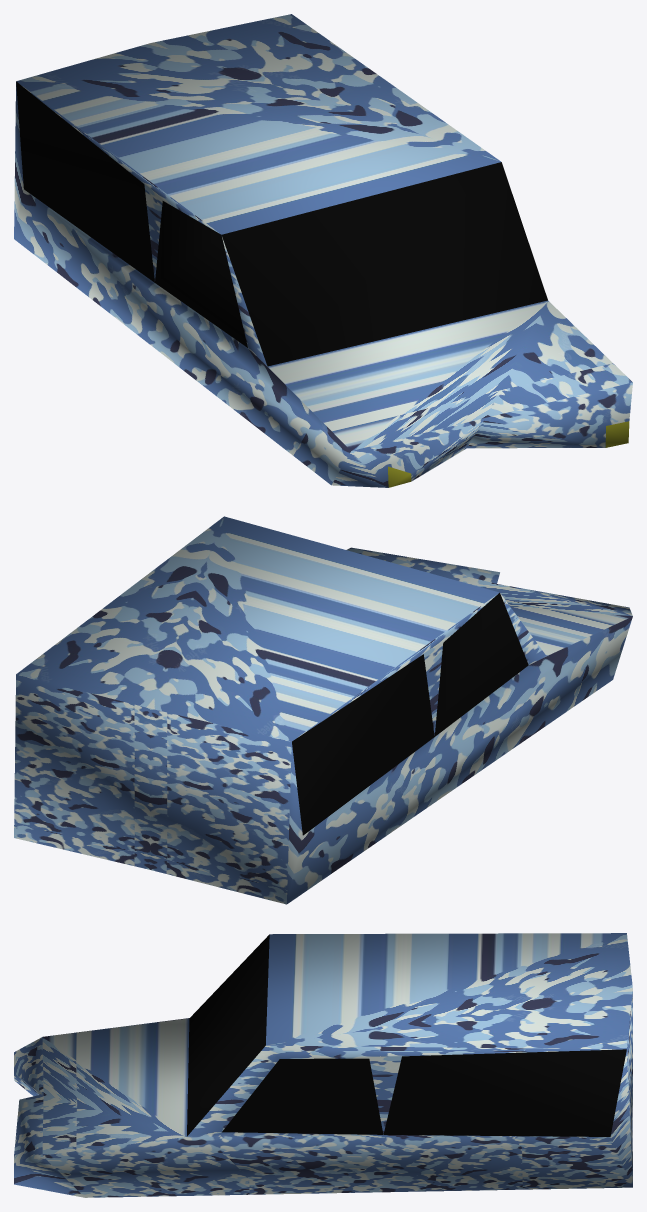
The model's file is colisionador.fbx.
3 renders of one model, top to bottom at view 1: azimuth 30°, elevation 25°; view 2: azimuth 150°, elevation 25°; view 3: azimuth 270°, elevation 25°, orthographic. The views are drawn at different scales.
Parts seen in each view (by area): view 1: carroceria; view 2: carroceria; view 3: carroceria.
Boxes of the visible parts, x1,y1,x2,y2 form: carroceria: (14,14,632,487); carroceria: (14,516,632,904); carroceria: (14,933,632,1197).
Bounding box in the file's own units: 479 × 286 × 1056.
